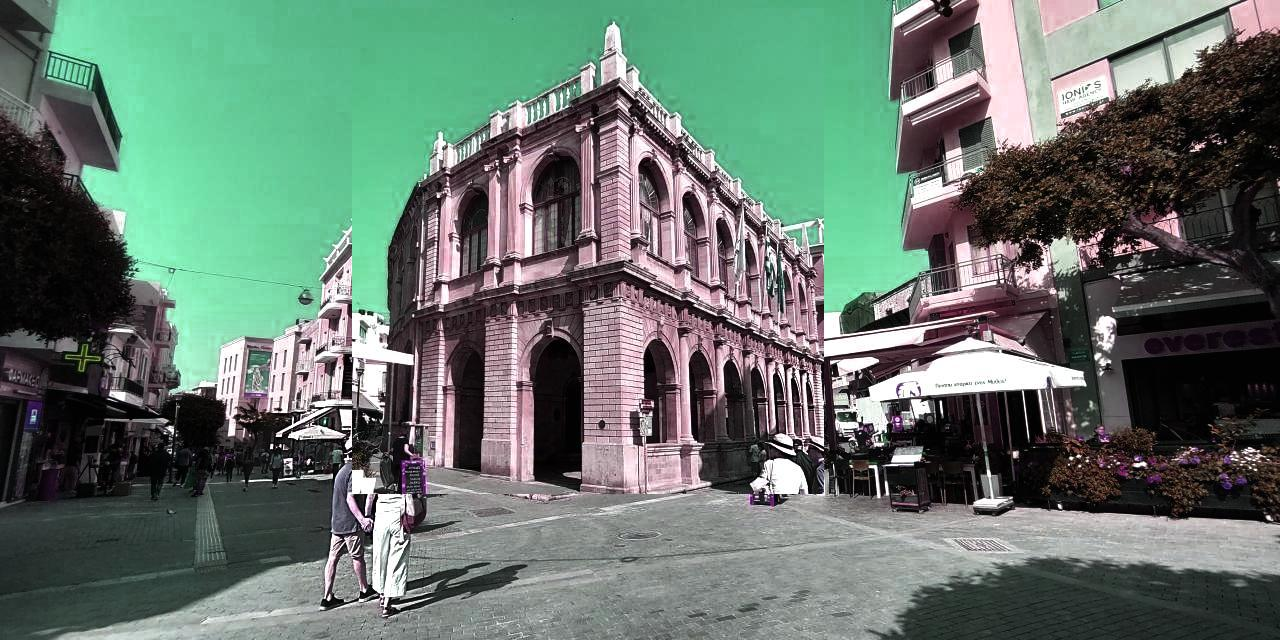Loggia: (353, 9, 825, 495)
